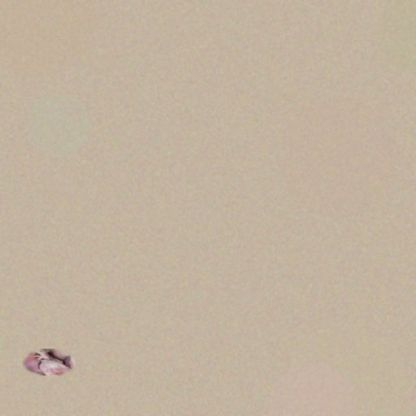sprouted: (23, 349, 76, 376)
